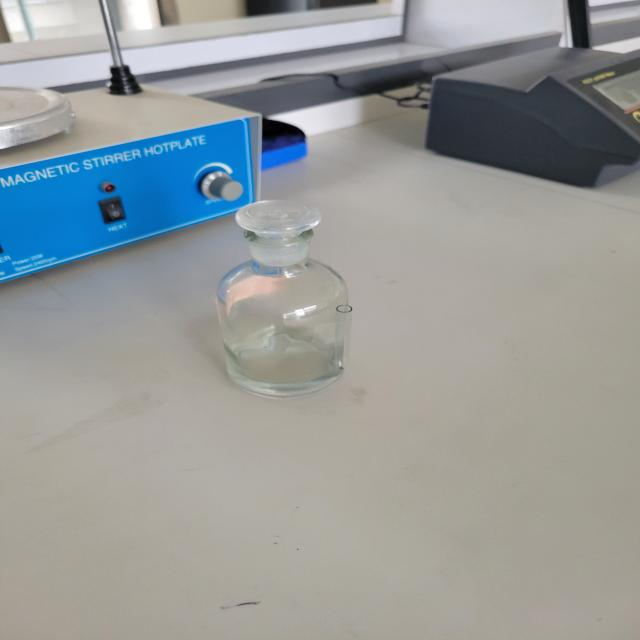Reagent_Bottle: (159, 170, 404, 426)
